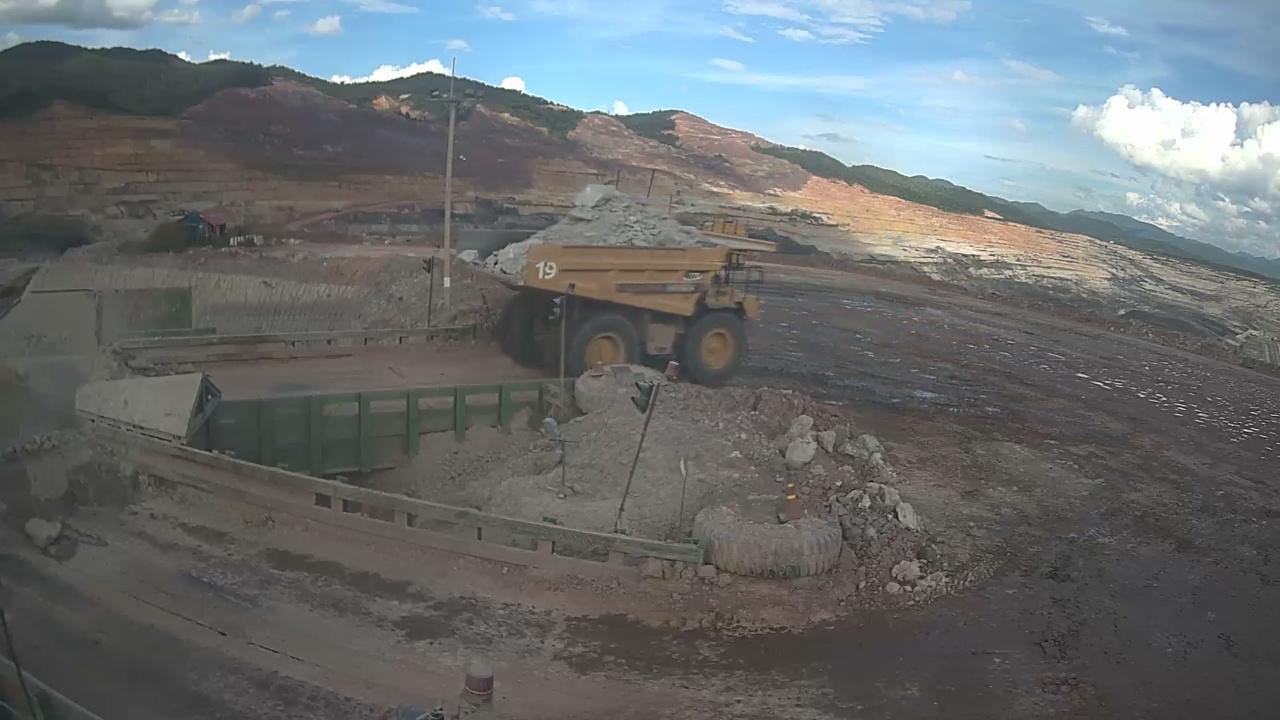full_load: (516, 179, 709, 251)
mining_truck: (444, 177, 796, 390)
tail_number: (532, 254, 564, 284)
